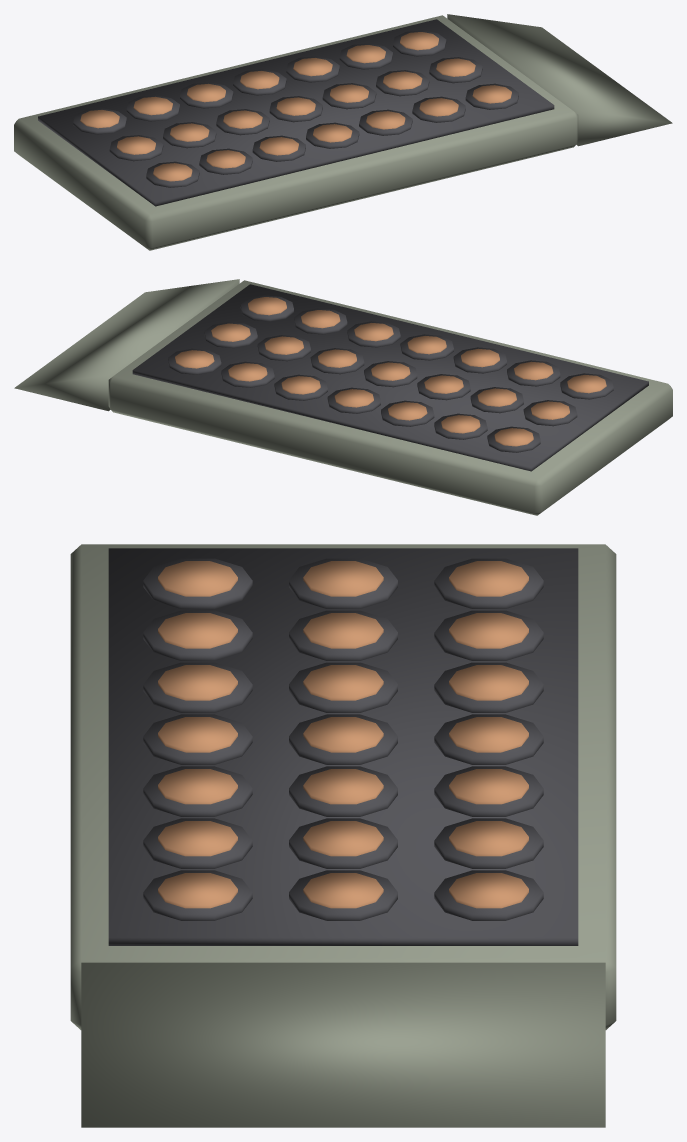
The model's file is flares_1.glb.
3 renders of one model, top to bottom at view 1: azimuth 30°, elevation 25°; view 2: azimuth 150°, elevation 25°; view 3: azimuth 270°, elevation 25°, orthographic. The views are drawn at different scales.
Visible parts, largest first — view 1: flares_1; view 2: flares_1; view 3: flares_1.
Part boxes in pixels (bbox=[...]): flares_1: bbox=[14, 14, 672, 250]; flares_1: bbox=[14, 279, 672, 515]; flares_1: bbox=[70, 544, 616, 1127].
Size of the model in its own units: 0.67 by 0.055 by 0.3.
